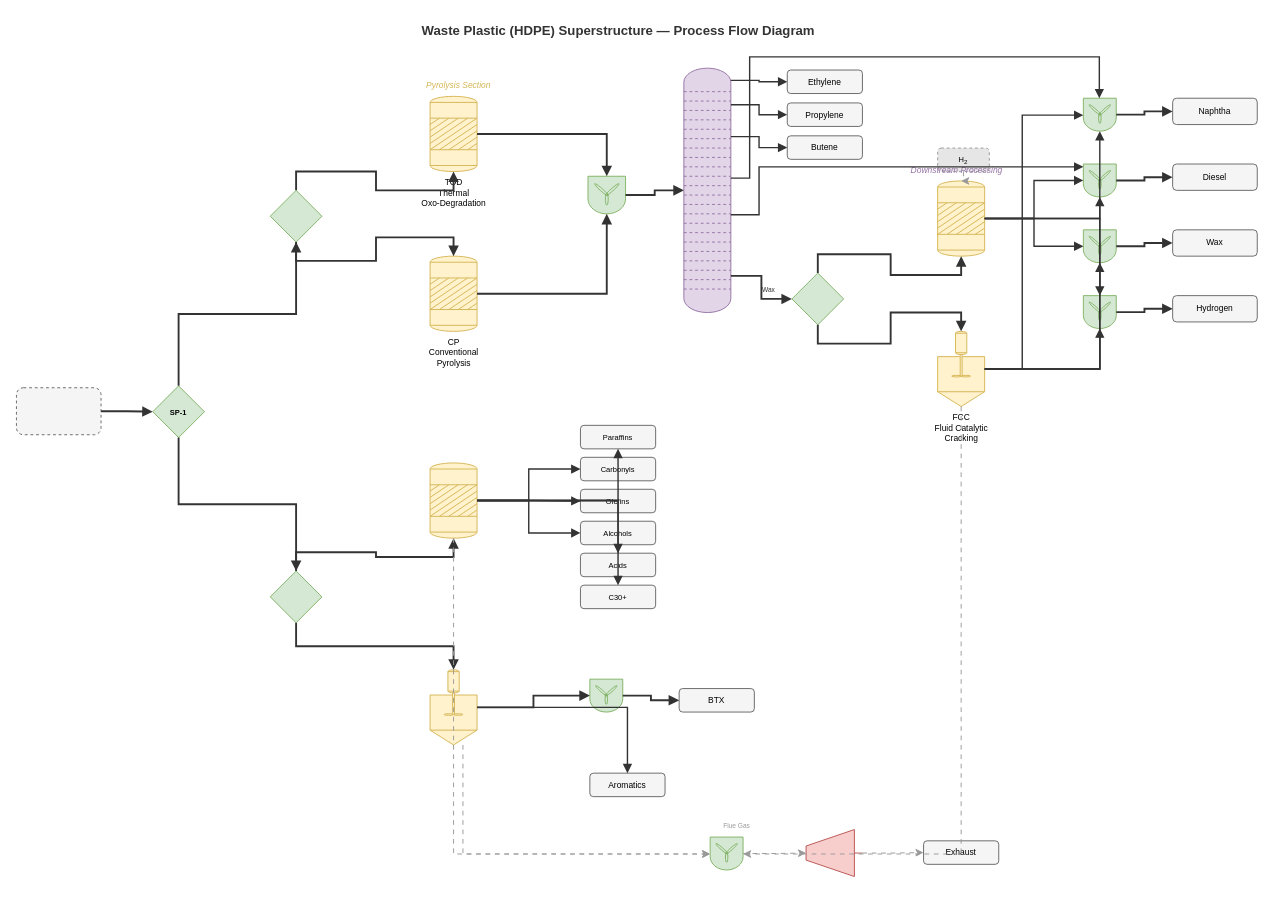
Some shapes in this 1274 by 919 pixel diagram are drawn without their labels. Each missing label, with the centre of its shape:
CPY Catalytic Pyrolysis: point 453,707
DIST Fractionator: point 707,190
HC Hydrocracking: point 961,218
HDPE Feed 250 tpd: point 58,411
PLASMA Plasma Pyrolysis: point 453,500
SP-2: point 295,596
SP-3: point 295,215
SP-4: point 817,298
TG Turbogenerator: point 833,853
